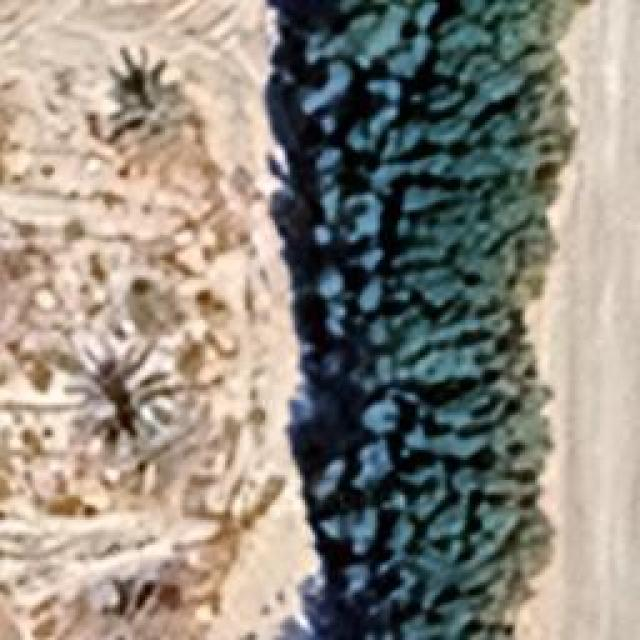PalmTree: (86, 50, 229, 188), (60, 348, 178, 442), (76, 555, 202, 640)
